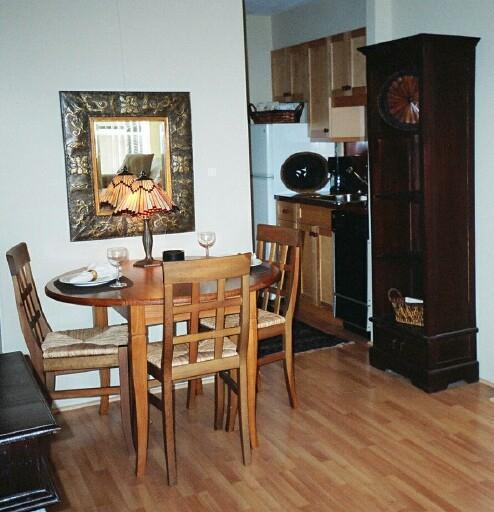Armario: (359, 37, 474, 386)
